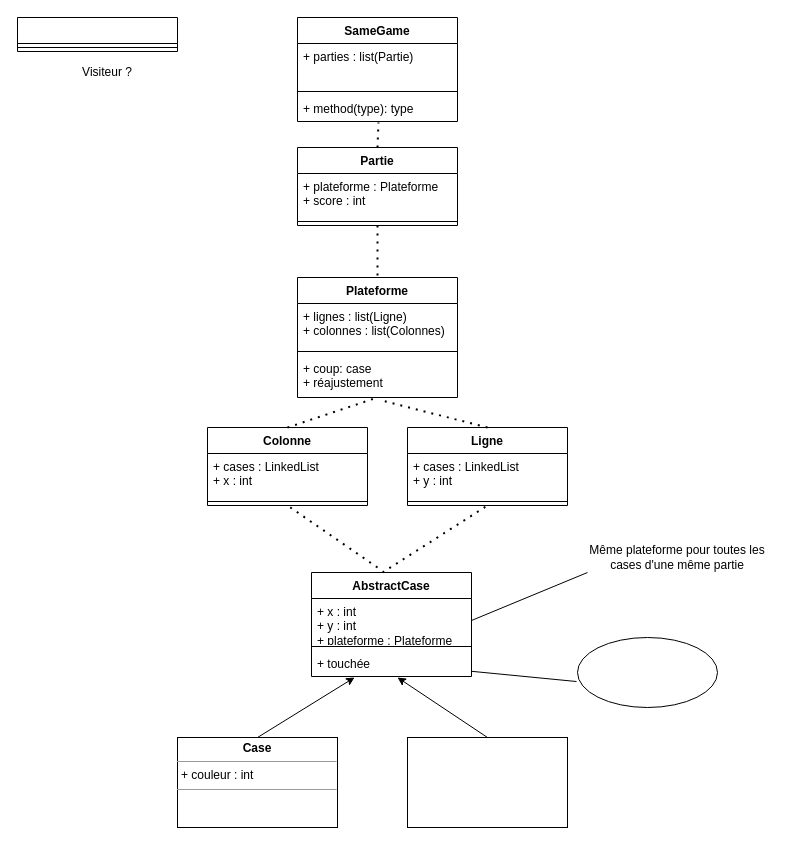
Some shapes in this 785 by 845 pixel diagram are drawn without their labels. Each missing label, with the centre of its shape:
LibGraphique: the point at 97,34
NullCase: the point at 487,782
touchée plateforme:coup:self: the point at 647,672
